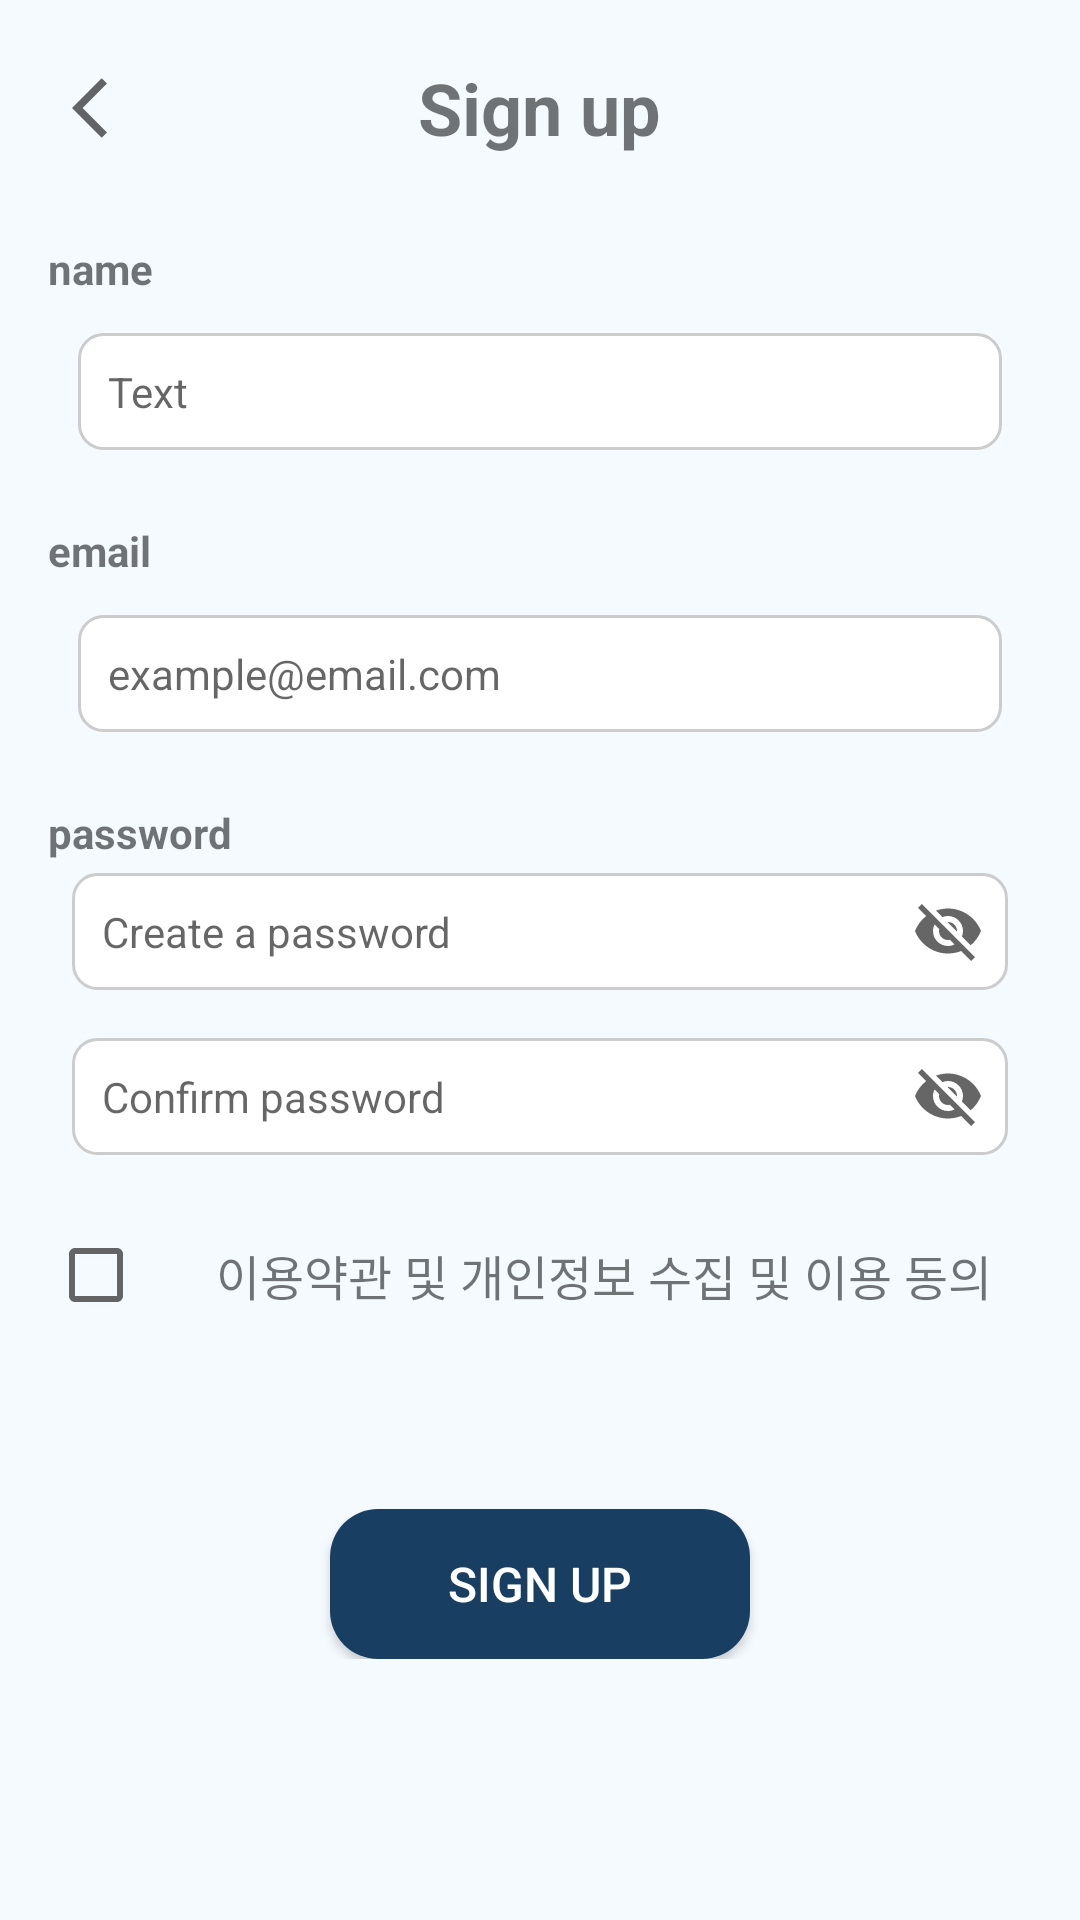

Named icons in this screenshot (1080px x 1920px) and their centers, (x=x, y=y):
Back Button: (x=89, y=108)
